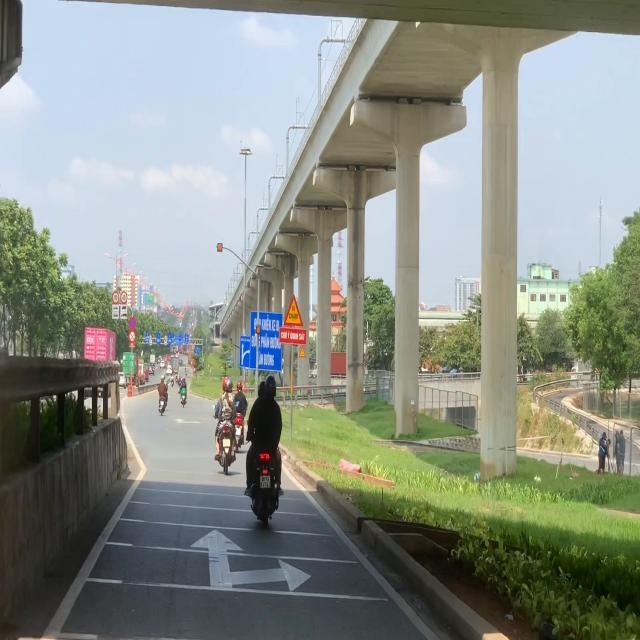bien_nguy_hiem: (283, 294, 304, 327), (129, 317, 136, 330), (112, 291, 119, 303), (121, 292, 127, 304)
